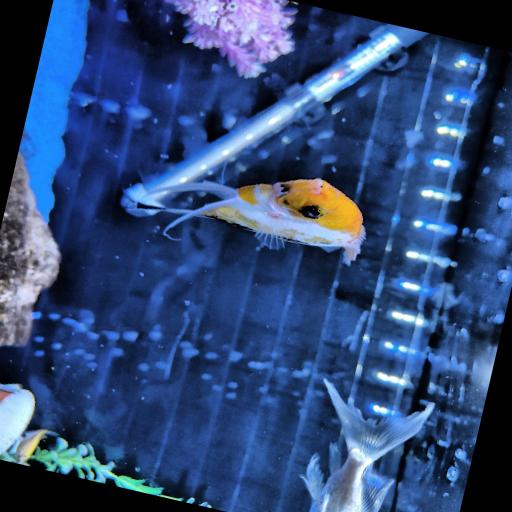Fish: (126, 178, 364, 263), (300, 379, 433, 511), (14, 428, 55, 465)
